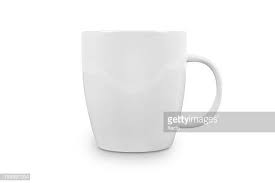cup: (77, 24, 225, 158)
